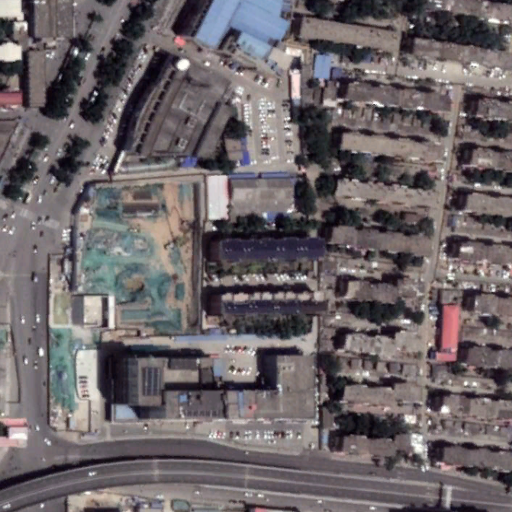cw: (75, 181, 199, 335), (48, 330, 88, 415)
